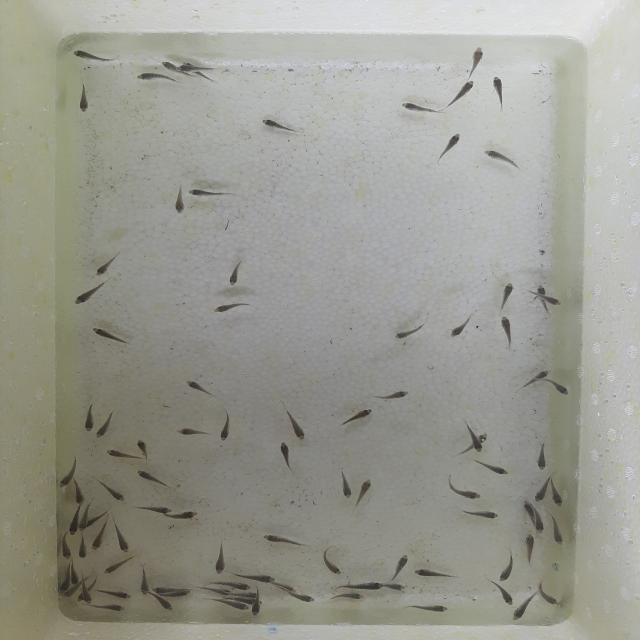fingerling: (85, 326, 134, 345), (484, 148, 522, 172), (89, 252, 124, 278), (466, 459, 513, 478), (95, 479, 132, 503), (209, 416, 238, 444), (167, 185, 193, 216), (134, 470, 174, 490), (72, 282, 104, 306), (397, 99, 441, 116), (112, 518, 132, 555), (463, 47, 490, 74), (258, 117, 298, 135), (286, 410, 308, 442), (449, 483, 484, 503), (448, 313, 474, 339), (276, 442, 297, 474), (441, 130, 462, 161), (332, 472, 356, 499), (188, 186, 234, 200), (547, 481, 569, 510), (374, 388, 416, 403), (451, 79, 475, 105), (354, 477, 374, 508), (72, 86, 94, 114), (458, 506, 502, 520), (521, 366, 551, 386), (488, 73, 506, 105), (93, 414, 117, 438), (224, 262, 247, 287), (509, 598, 530, 625), (260, 532, 303, 545), (349, 406, 380, 424), (130, 71, 176, 83), (390, 326, 423, 342), (55, 462, 73, 491), (70, 49, 110, 62), (211, 301, 251, 314), (183, 378, 215, 394), (102, 447, 134, 463), (130, 503, 176, 514), (492, 584, 514, 607), (498, 281, 518, 306), (498, 314, 514, 345), (103, 558, 133, 574), (538, 588, 563, 607), (167, 507, 204, 519), (82, 402, 96, 433), (537, 436, 549, 472), (498, 558, 516, 582), (215, 600, 248, 613), (415, 568, 450, 580), (175, 425, 207, 438), (71, 479, 87, 505), (153, 595, 179, 611), (324, 555, 343, 576), (534, 476, 549, 502), (533, 503, 546, 533), (93, 600, 125, 612), (524, 534, 538, 560), (549, 517, 562, 545), (134, 438, 152, 458), (239, 573, 275, 583), (339, 581, 384, 589), (392, 554, 410, 574), (215, 543, 226, 575), (68, 507, 80, 536), (80, 500, 92, 529), (138, 565, 150, 594), (411, 604, 454, 612), (328, 592, 366, 601), (60, 528, 71, 558), (104, 589, 134, 600), (95, 521, 105, 551), (468, 435, 482, 456), (541, 296, 565, 308), (382, 583, 410, 593), (60, 567, 71, 591), (292, 593, 316, 604), (552, 384, 572, 397), (273, 583, 299, 593), (64, 582, 80, 598), (520, 500, 534, 518), (250, 595, 262, 616), (178, 65, 212, 72), (225, 583, 253, 591), (69, 562, 80, 582), (82, 582, 92, 604), (80, 534, 88, 560), (161, 61, 180, 71), (169, 588, 192, 596), (152, 585, 178, 592), (535, 284, 547, 296)
